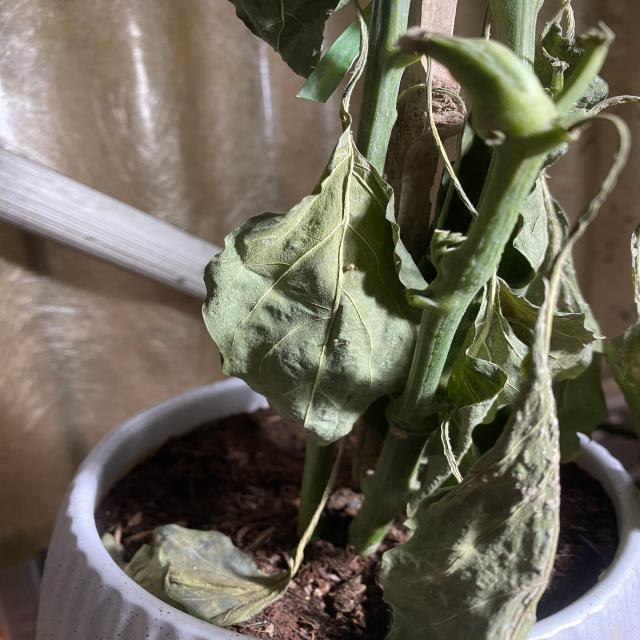Leaf: (201, 138, 431, 444), (378, 366, 562, 640)
